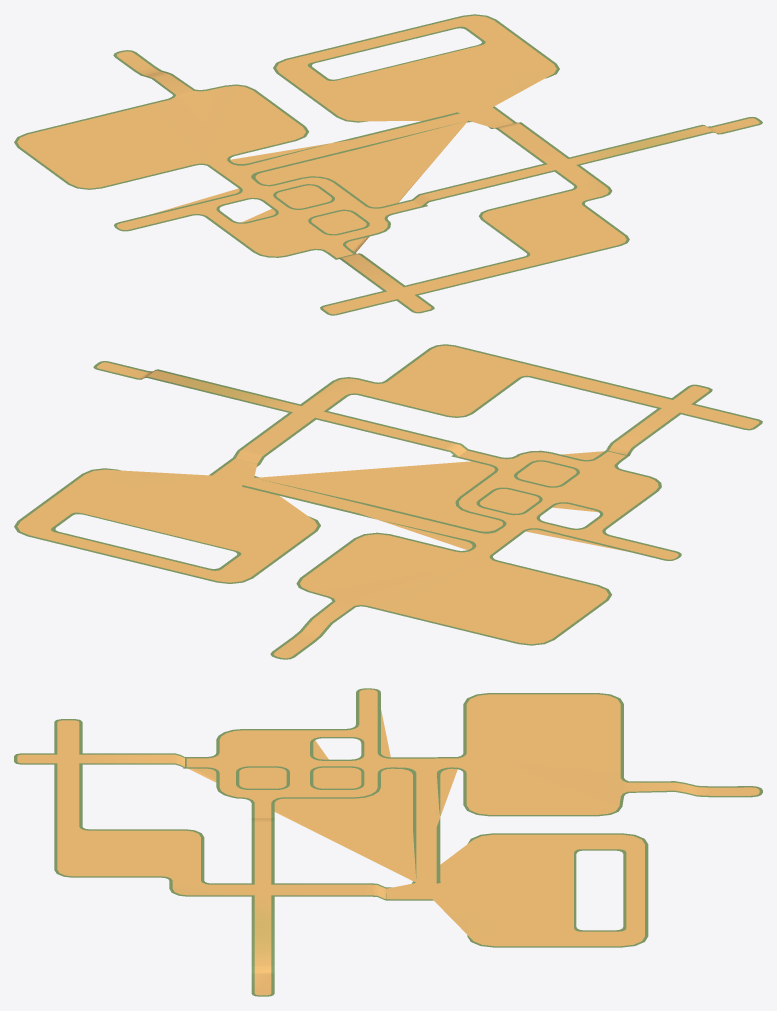
The model's file is Map Unity  (9).fbx.
3 views of the same model, one above another, from view 1: azimuth 30°, elevation 25°; view 2: azimuth 150°, elevation 25°; view 3: azimuth 270°, elevation 25° (orthographic). The views are drawn at different scales.
Visible parts, largest first — view 1: Plane.001, Plane.054; view 2: Plane.001, Plane.054; view 3: Plane.001, Plane.054.
Part boxes in pixels (x1=…): Plane.001: x1=14, y1=14, x2=559, y2=259; Plane.054: x1=147, y1=75, x2=762, y2=315; Plane.001: x1=14, y1=449, x2=681, y2=659; Plane.054: x1=93, y1=344, x2=762, y2=658; Plane.001: x1=183, y1=688, x2=762, y2=947; Plane.054: x1=14, y1=700, x2=696, y2=996.
Bounding box in the file's own units: 17.98 × 0.2484 × 18.46.
